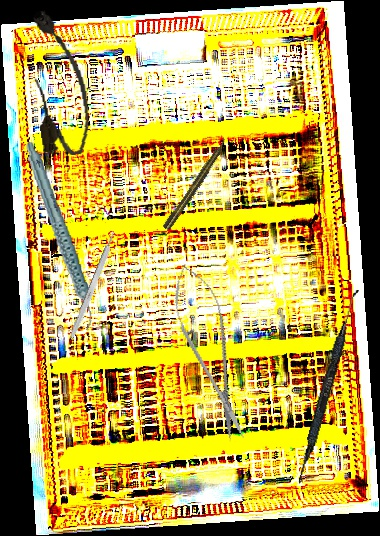Cannula: (24, 6, 95, 159)
Handpiece: (24, 137, 95, 335), (161, 136, 231, 232)
Micro Scissor: (161, 257, 260, 447)
Scalpel Handle: (66, 228, 120, 346)
Spatula Surgical: (295, 287, 360, 485)
